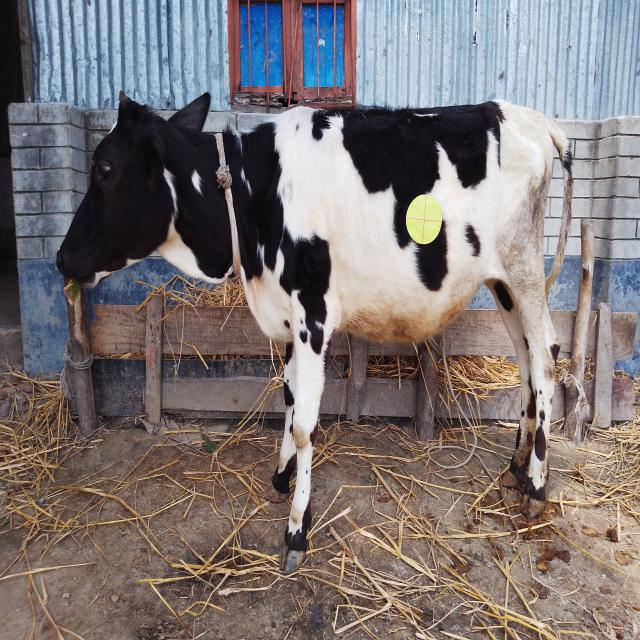badan_sapi: (242, 111, 545, 345)
sapi: (54, 80, 600, 574)
